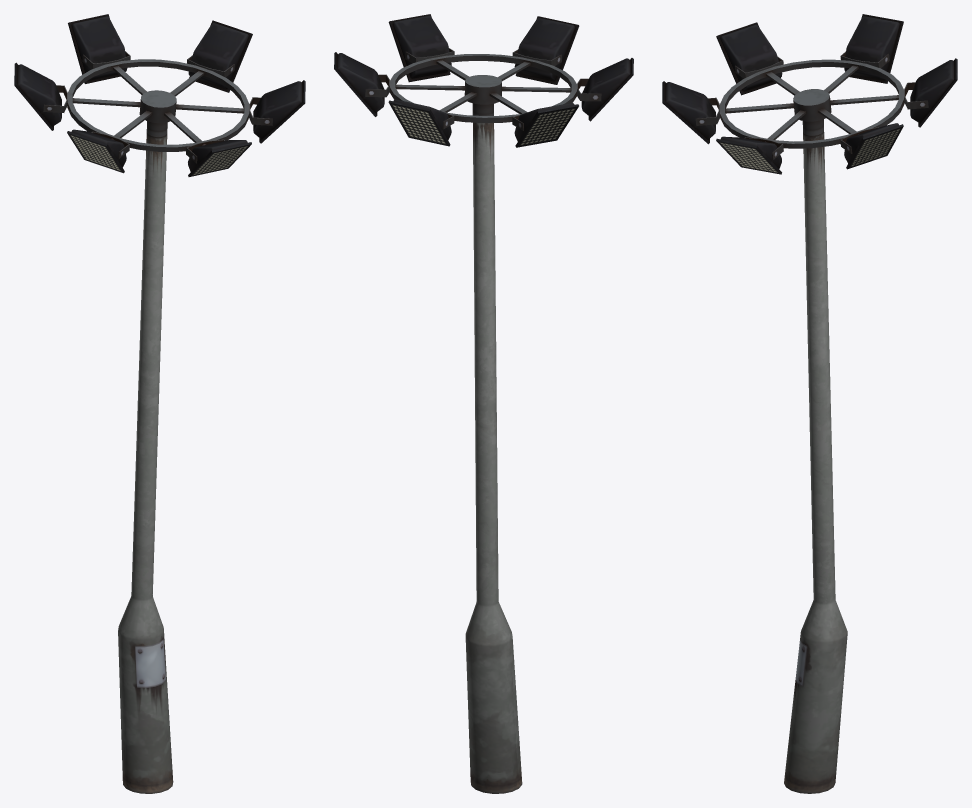
Rendered from TowerLight01A_2.FBX.
The picture shows the model from 3 angles, left to right: view 1: azimuth 30°, elevation 25°; view 2: azimuth 150°, elevation 25°; view 3: azimuth 270°, elevation 25°; orthographic projection. The views are drawn at different scales.
Visible parts, largest first — view 1: TowerLight01A_2; view 2: TowerLight01A_2; view 3: TowerLight01A_2.
Boxes of the visible parts, x1,y1,x2,y2 form: TowerLight01A_2: (14, 14, 305, 793); TowerLight01A_2: (334, 14, 633, 793); TowerLight01A_2: (662, 14, 957, 793).
Size of what is drawn, in the model's own units: 2.17 by 6.17 by 2.29.
